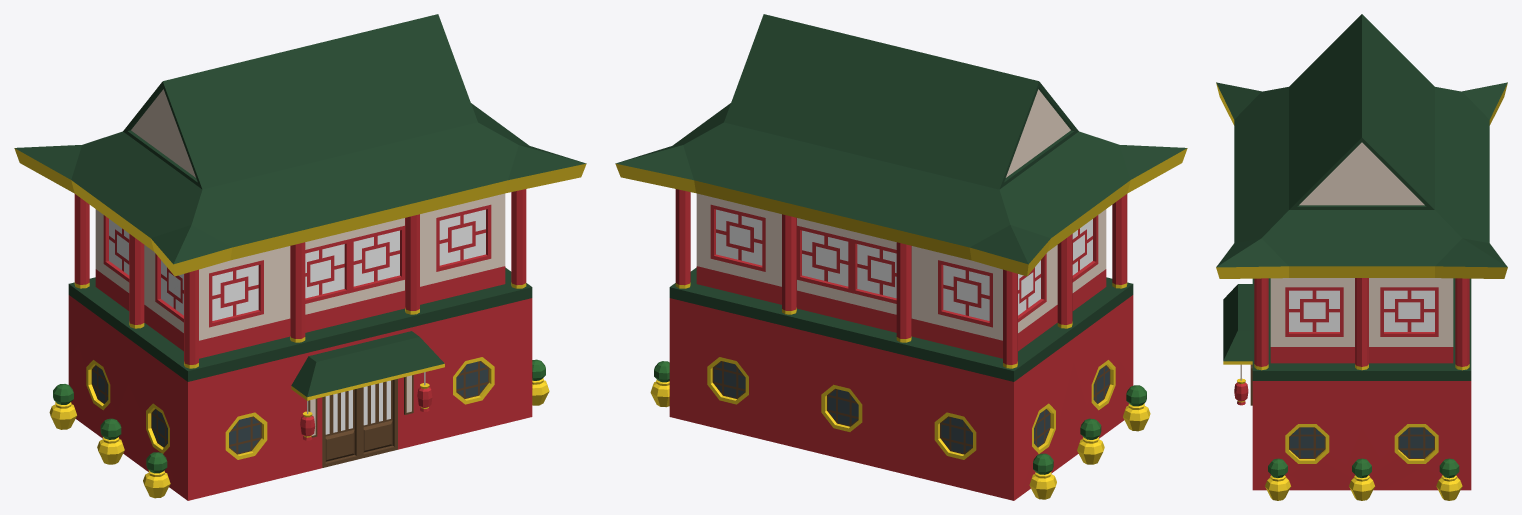
Rendered from buildings_building-antique-china.fbx.
The picture shows the model from 3 angles, left to right: view 1: azimuth 30°, elevation 25°; view 2: azimuth 150°, elevation 25°; view 3: azimuth 270°, elevation 25°; orthographic projection. The views are drawn at different scales.
Visible parts, largest first — view 1: buildings_building_antique_china; view 2: buildings_building_antique_china; view 3: buildings_building_antique_china.
Boxes of the visible parts, x1,y1,x2,y2 form: buildings_building_antique_china: (14,14,586,500); buildings_building_antique_china: (615,14,1187,500); buildings_building_antique_china: (1216,14,1507,500).
Bounding box in the file's own units: 200 × 170 × 133.
